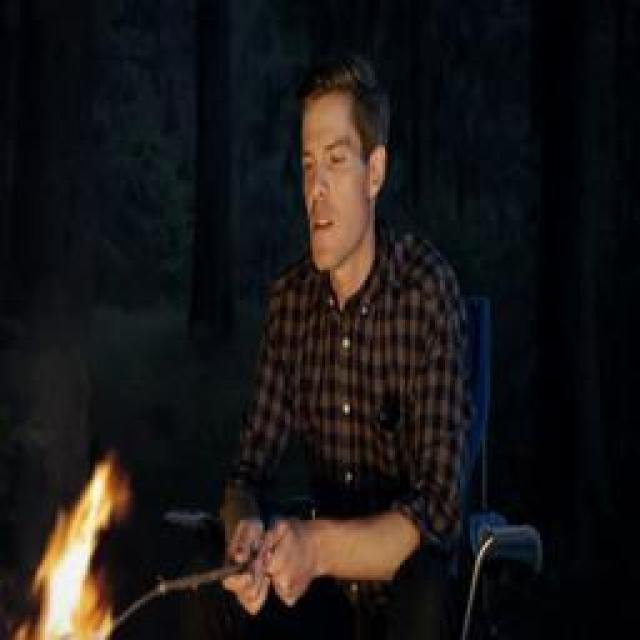Fire: (18, 460, 126, 640)
